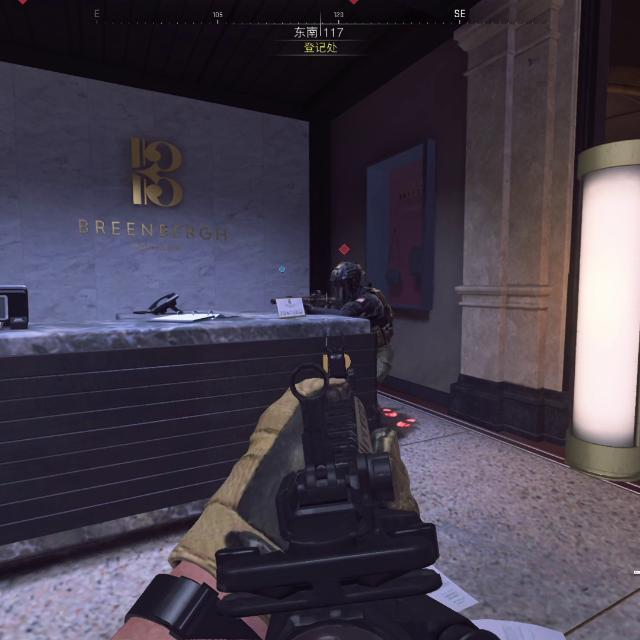MW2_body: (325, 244, 393, 322)
